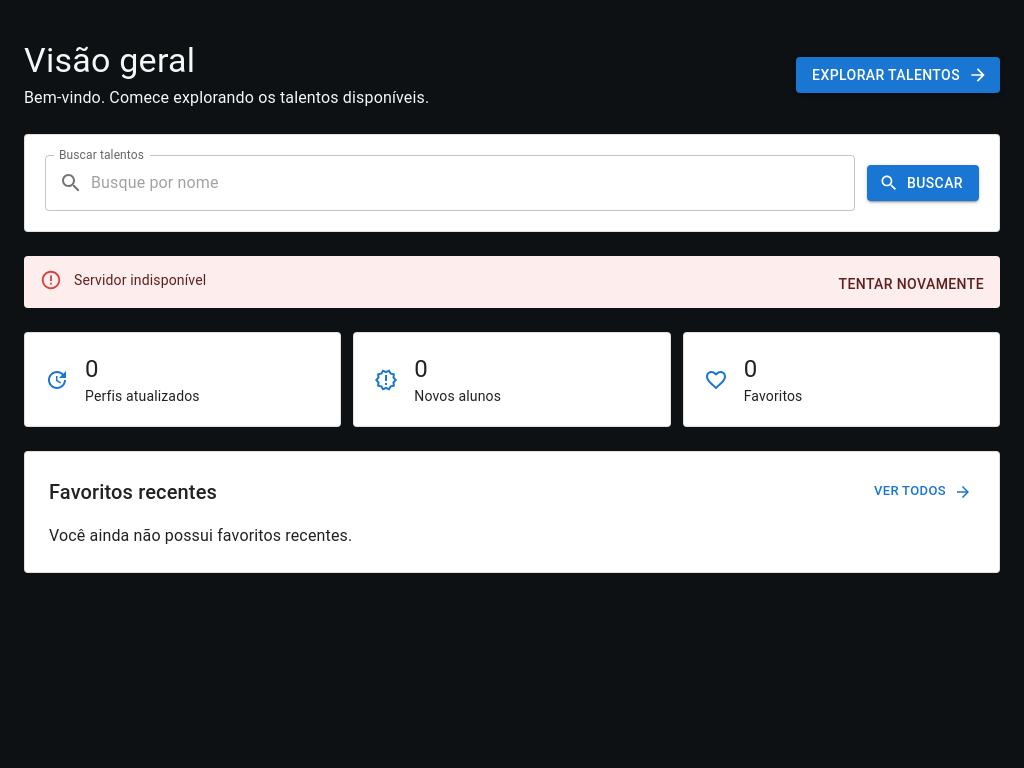
Test: RecruiterDashboardView › failure › shows the loading state again while a retry is in flight
This screenshot has width=1024, height=768.
Check: the message "Servidor indisponível Tentar novamente" is shown, box [24,256,1000,308]
Click the button "Tentar novamente" at [911, 284], box [830,266,992,302]
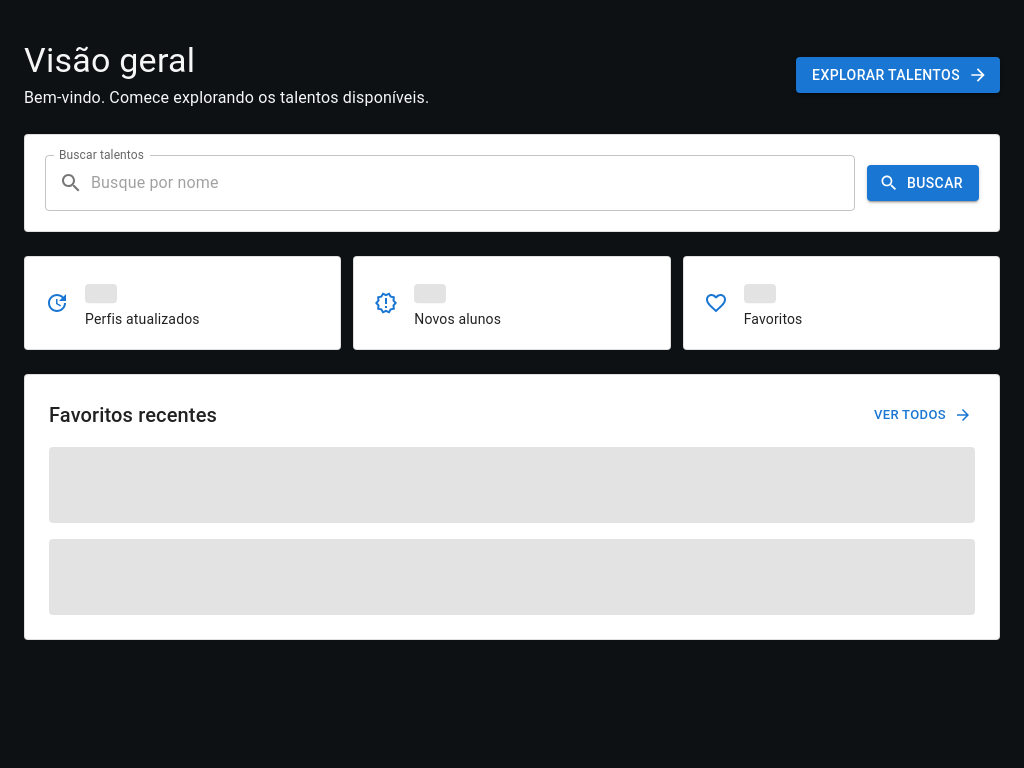
Check: the message "Servidor indisponível Tentar novamente" is gone
Check: the text "Você ainda não possui favoritos recentes." is gone
